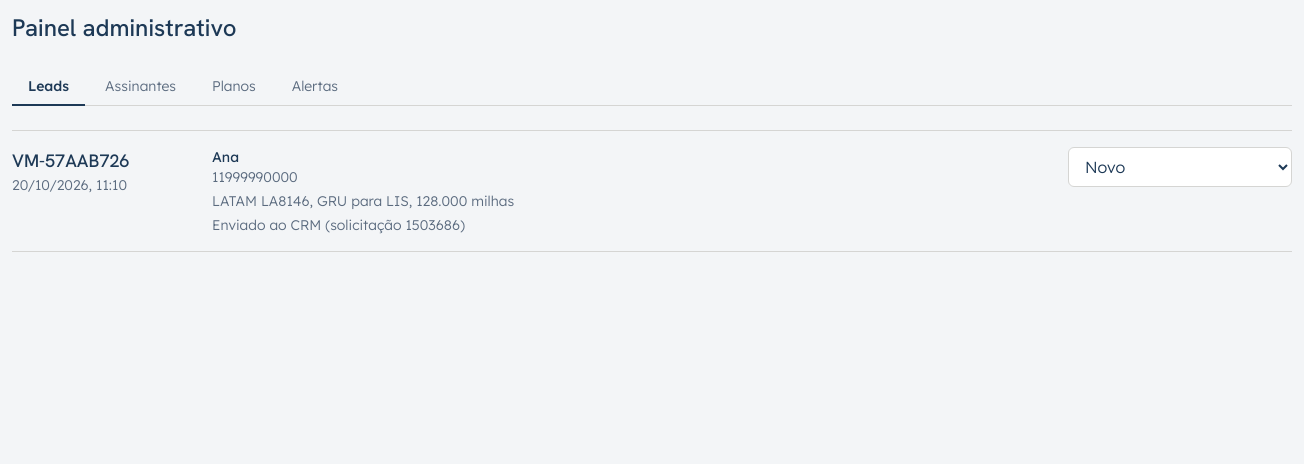
Test: Admin › salva os limites de um plano e recusa valores que não são inteiros
Click the tab "Planos".
click(234, 87)  # box [196,68,272,106]
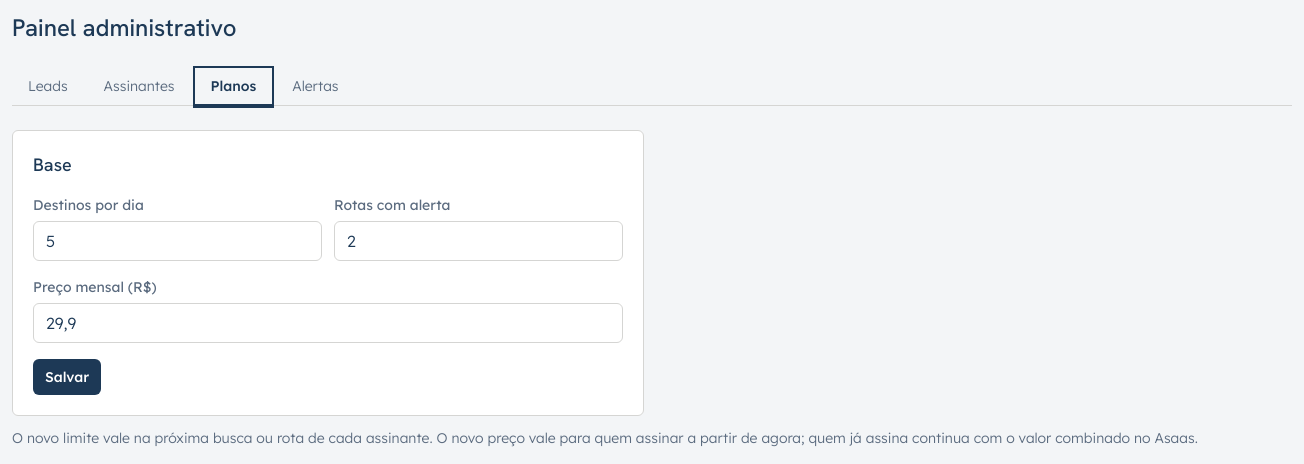
Replace the text in the field labelled "Destinos por dia" with "8" at point(178, 241), box [33,221,322,261]
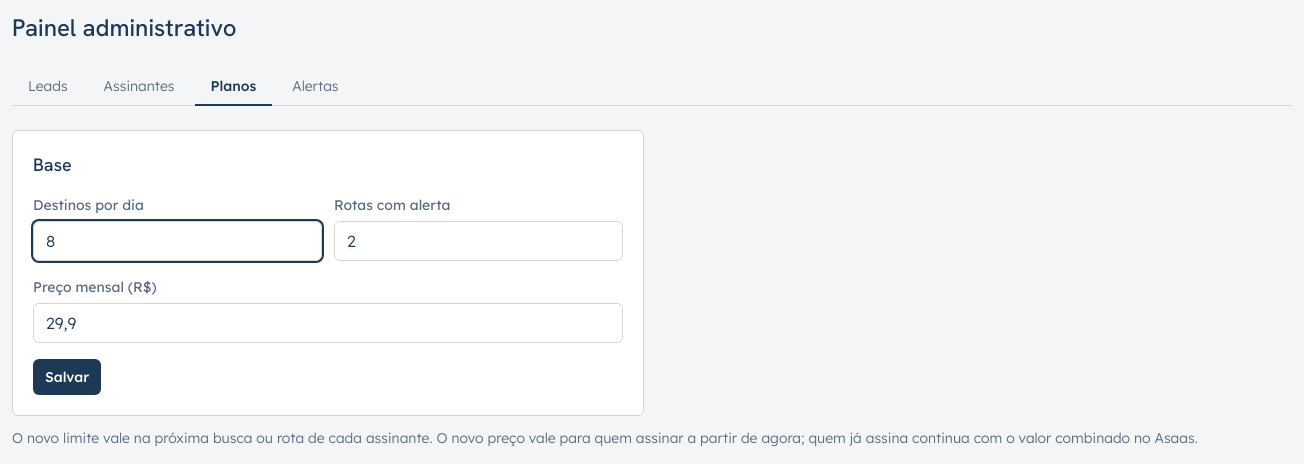
Click the button "Salvar".
click(67, 377)  # box [33,359,101,395]
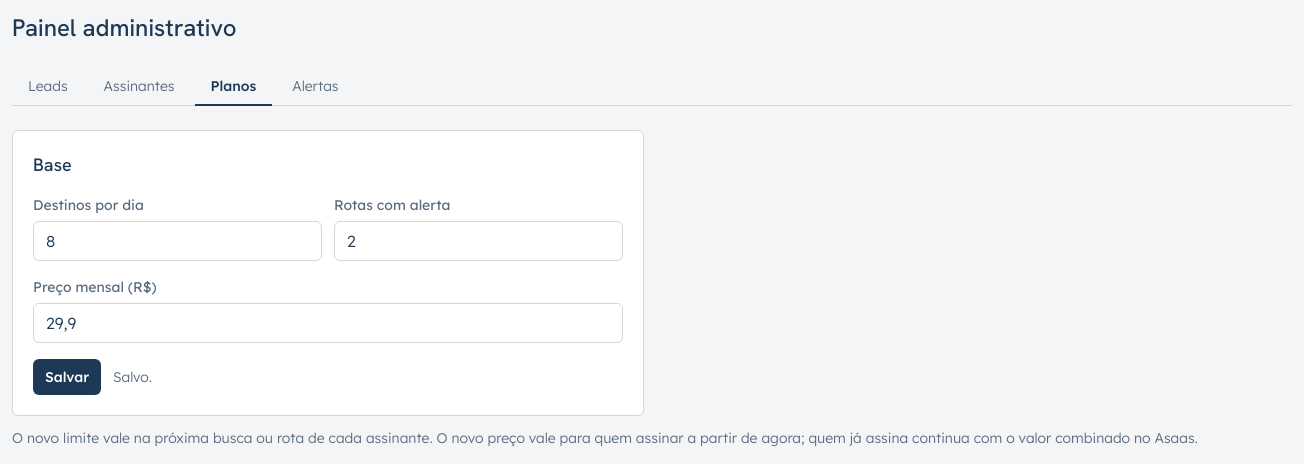
Replace the text in the field labelled "Rotas com alerta" with "-1" at point(478, 241), box [334,221,623,261]
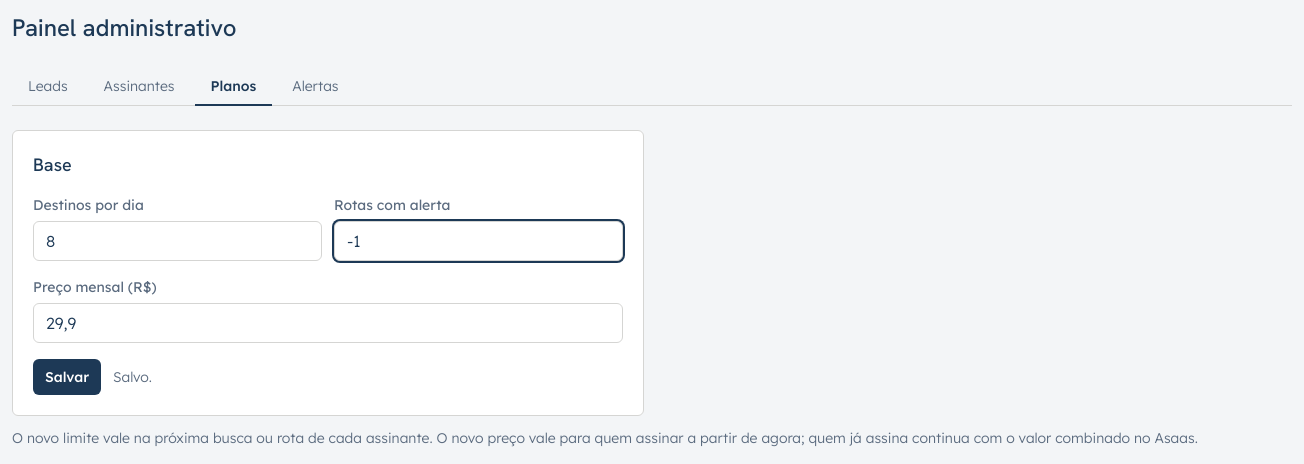
Click the button "Salvar".
click(67, 377)  # box [33,359,101,395]
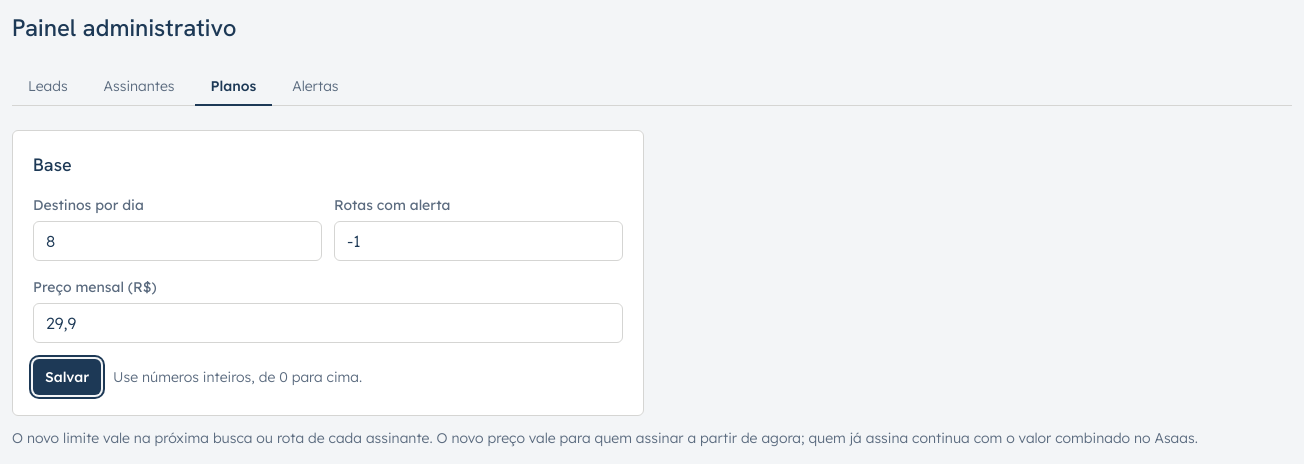
Expected: the message shows "números inteiros", [113,368,362,386]
